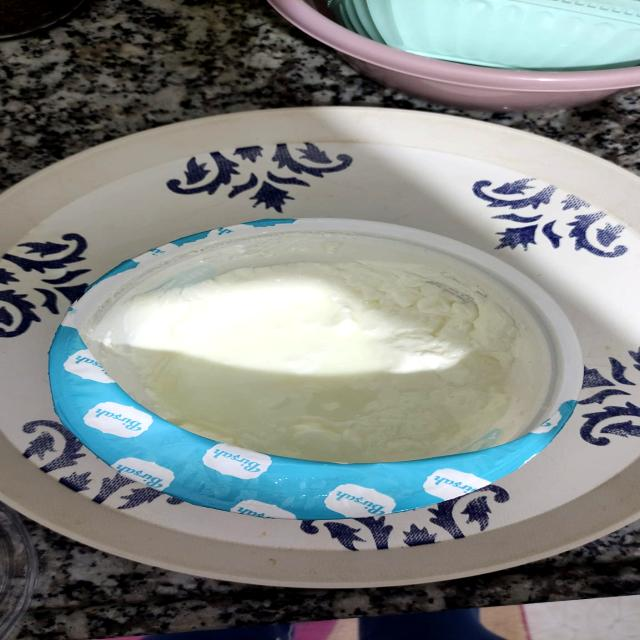yogurt: (52, 207, 579, 523)
